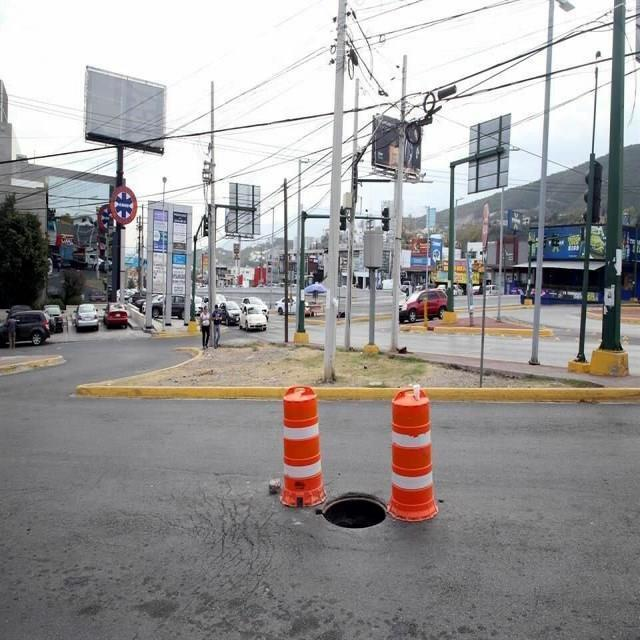pothole: (297, 471, 437, 593)
